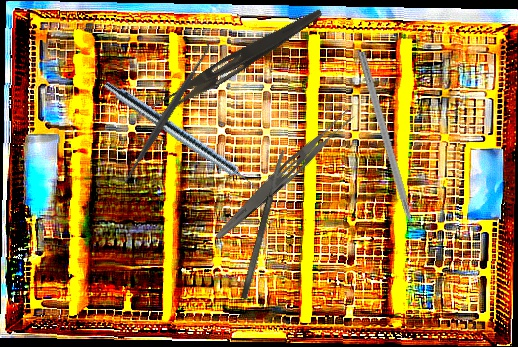Chopper: (347, 50, 421, 251)
Dressing Forceps: (148, 0, 325, 125), (211, 104, 359, 247)
Handpiece: (99, 78, 268, 199)
Spatula Surgical: (112, 38, 220, 193), (239, 149, 288, 300)
